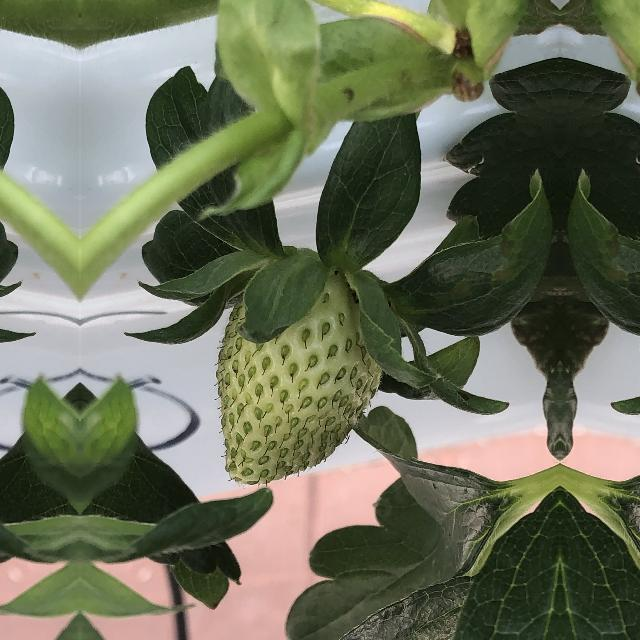Health_25: (214, 244, 388, 488)
